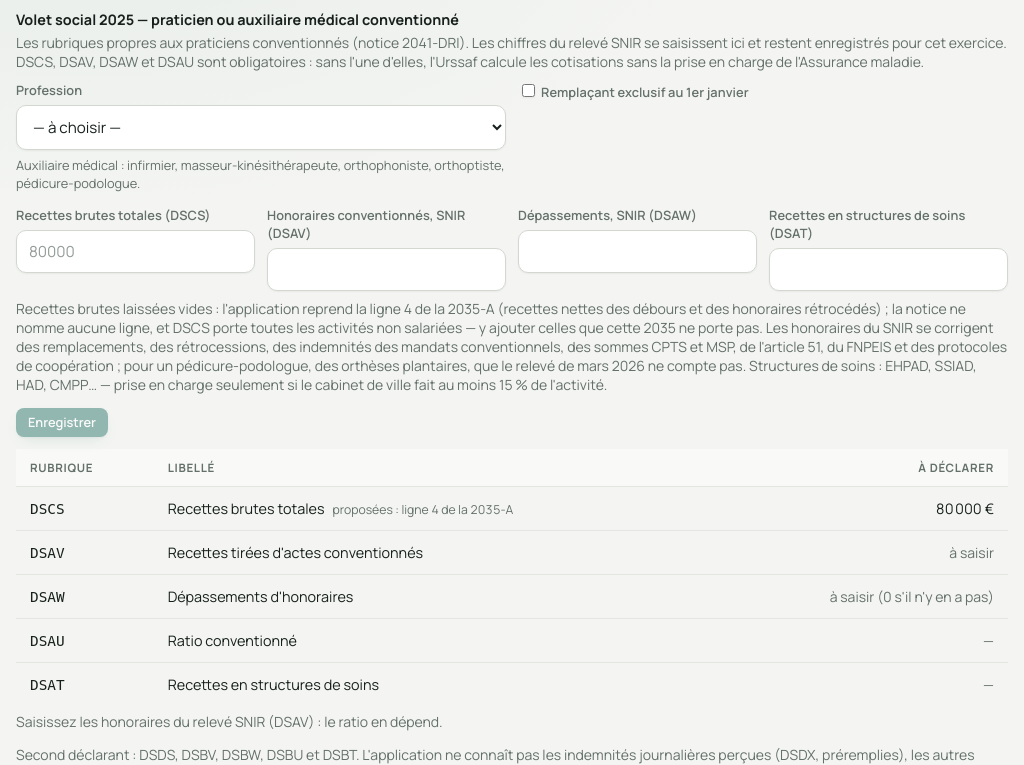
Test: la retraite dans le volet social › chiffre une CARPIMKO : quatre lignes, la prise en charge de l’Assurance maladie, le total, sans rien demander
This screenshot has width=1024, height=765.
Select "Auxiliaire médical" in the dropdown labelled "Profession". click: (261, 128)
box: [16,105,506,150]
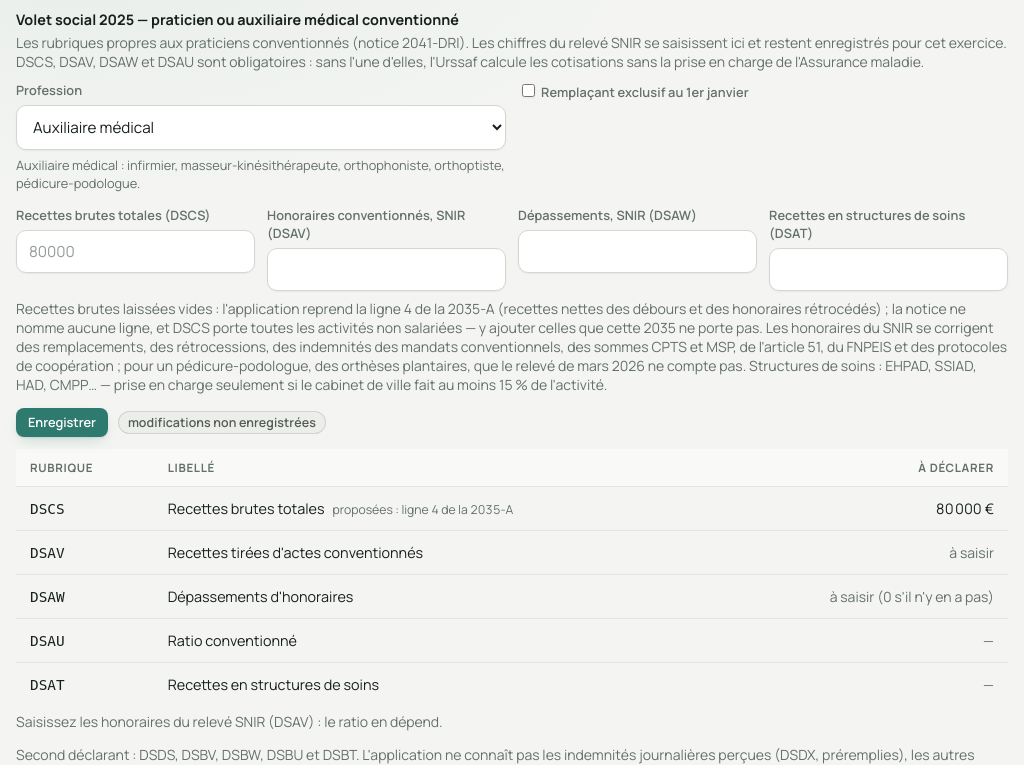
Type "80000" into the number field labelled "Honoraires conventionnés, SNIR (DSAV)". click: (386, 270)
box: [267,248,506,291]
(page scrolled)
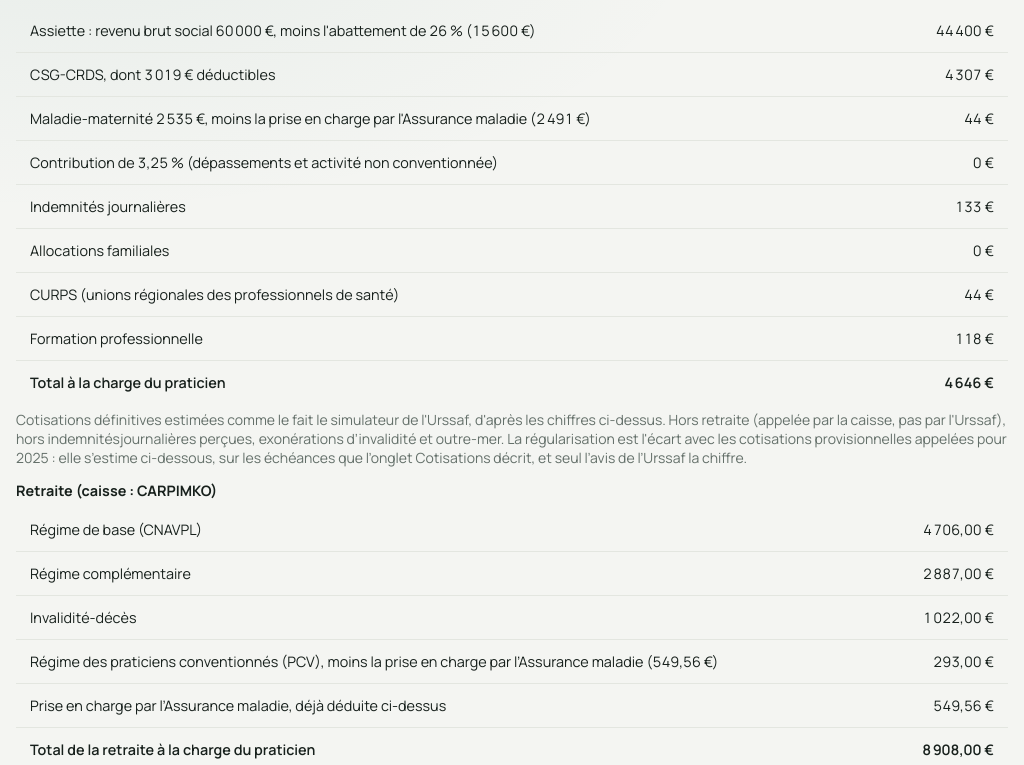
Expected: the text "Retraite (caisse : CARPIMKO)" is shown, [16,481,217,500]
Expected: the text "Total à la charge du praticien" is shown, [16,360,881,404]
